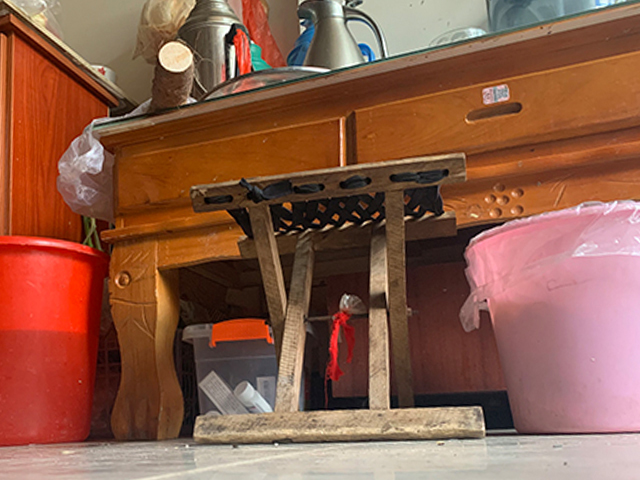stool: (193, 152, 486, 444)
table: (88, 1, 640, 442)
trashcan: (464, 200, 640, 436)
